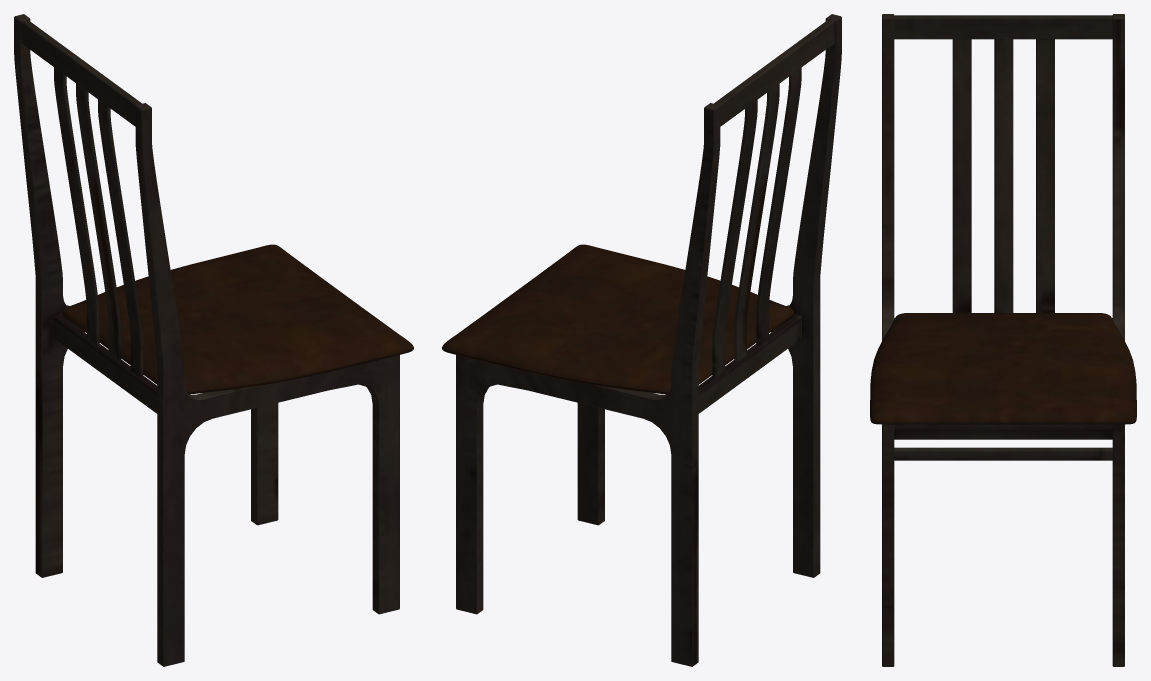
File: Chair_wood.fbx
The picture shows the model from 3 angles, left to right: view 1: azimuth 30°, elevation 25°; view 2: azimuth 150°, elevation 25°; view 3: azimuth 270°, elevation 25°; orthographic projection. The views are drawn at different scales.
Parts seen in each view (by area): view 1: Chair; view 2: Chair; view 3: Chair.
Boxes of the visible parts, left/top/right/bottom form: Chair: left=14, top=14, right=413, bottom=666; Chair: left=442, top=14, right=841, bottom=666; Chair: left=870, top=14, right=1136, bottom=666.
Size of the model in its own units: 16.14 by 32.29 by 14.63.
